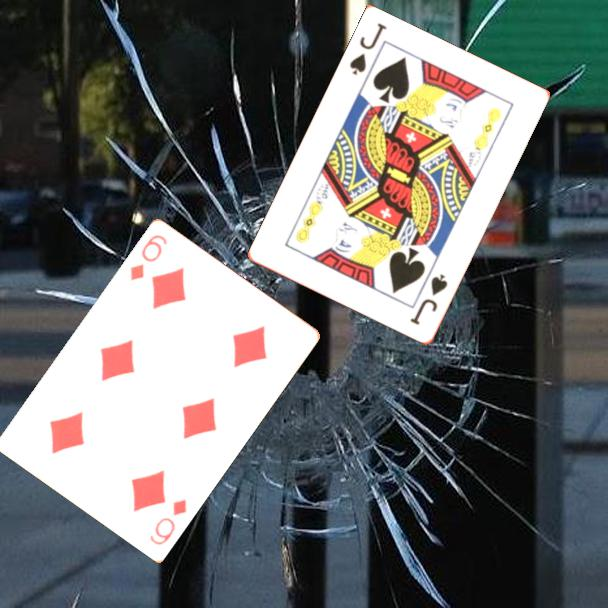d06: (146, 495, 190, 548), (126, 231, 170, 283)
s11: (346, 20, 390, 79), (407, 271, 451, 329)
